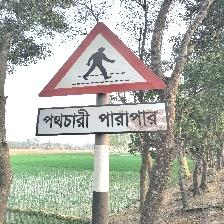Pedestrian-crossing: (36, 20, 169, 138)
